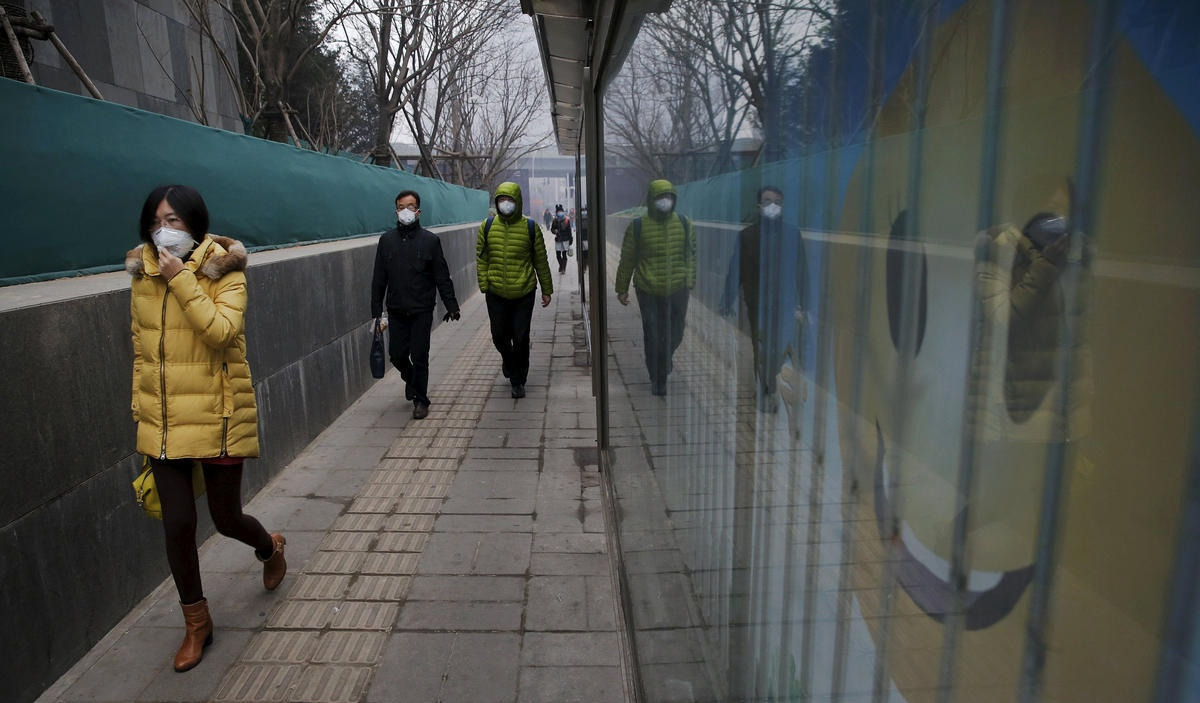Mask: (142, 207, 200, 264)
